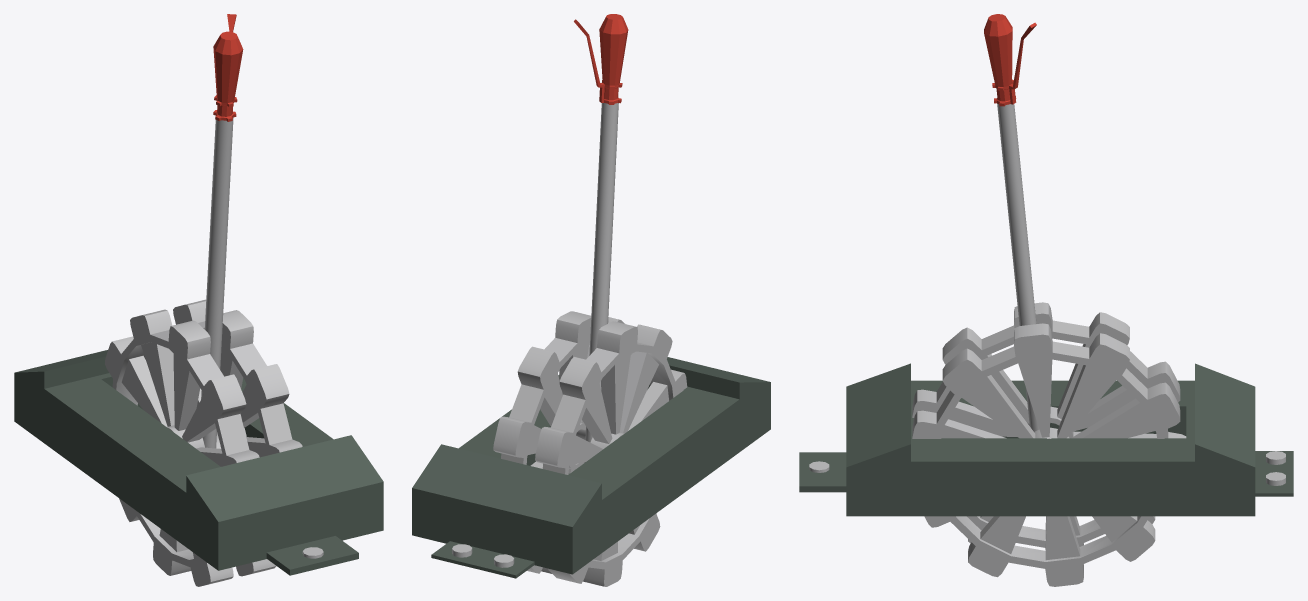
The model's file is lever.glb.
3 renders of one model, left to right at view 1: azimuth 30°, elevation 25°; view 2: azimuth 150°, elevation 25°; view 3: azimuth 270°, elevation 25°, orthographic. The views are drawn at different scales.
Visible parts, largest first — view 1: base, arm; view 2: base, arm; view 3: base, arm.
Boxes of the visible parts, x1,y1,x2,y2 form: base: [14, 350, 383, 575]; arm: [105, 14, 302, 586]; base: [412, 357, 770, 578]; arm: [493, 14, 687, 586]; base: [799, 363, 1293, 516]; arm: [912, 14, 1186, 586].
Bounding box in the file's own units: 0.2957 × 0.95 × 0.7644.
